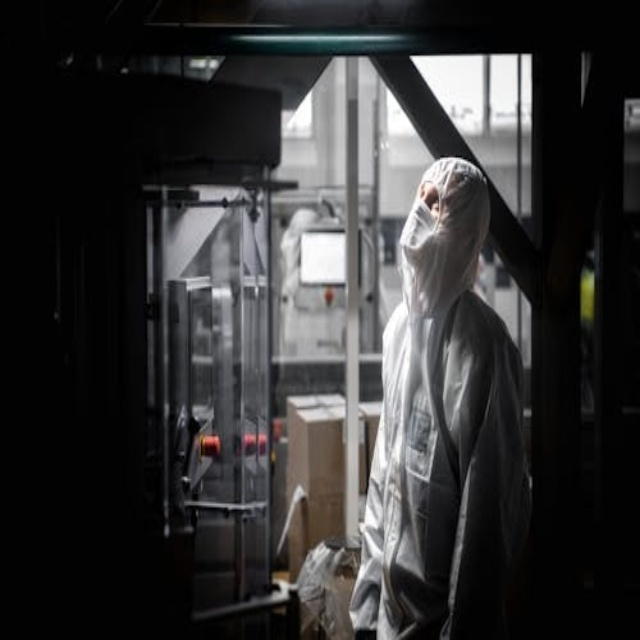Mascara: (405, 201, 437, 250)
